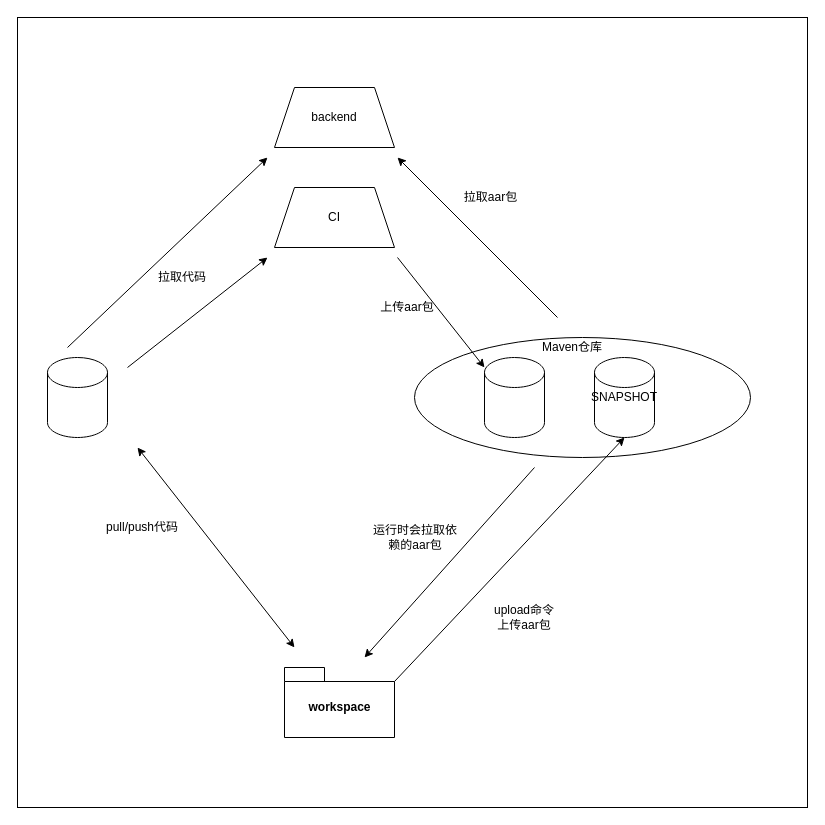
Some shapes in this 825 by 825 pixel diagram are drawn without their labels. The shapes that lost their labels are listed below. From the top down, each one's centre as x and y in pixels, then its label:
the point at 77,397: Gitlab
the point at 514,397: Release
